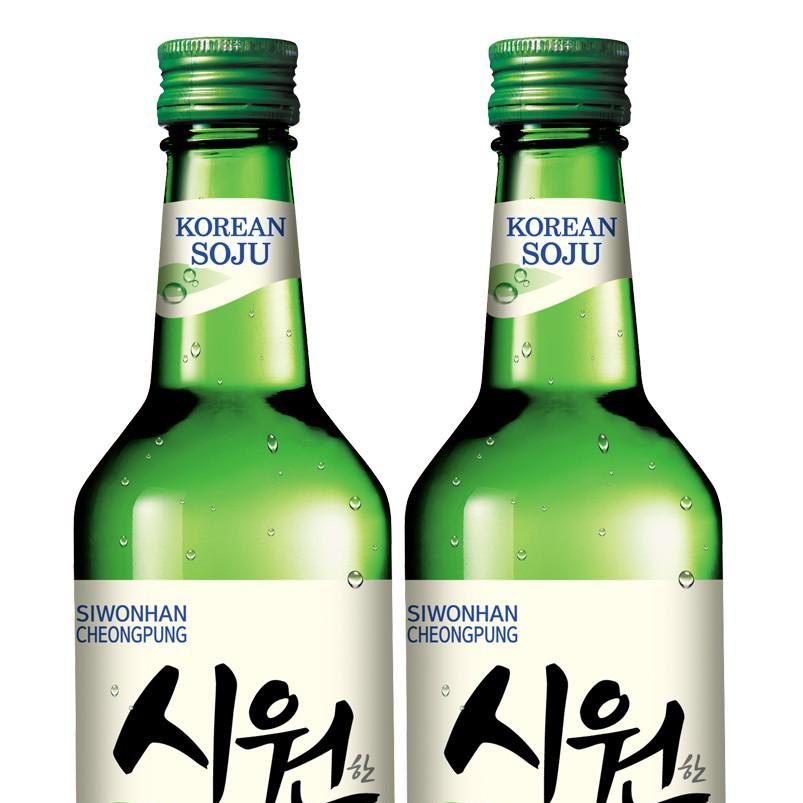soju: (69, 29, 735, 803)
